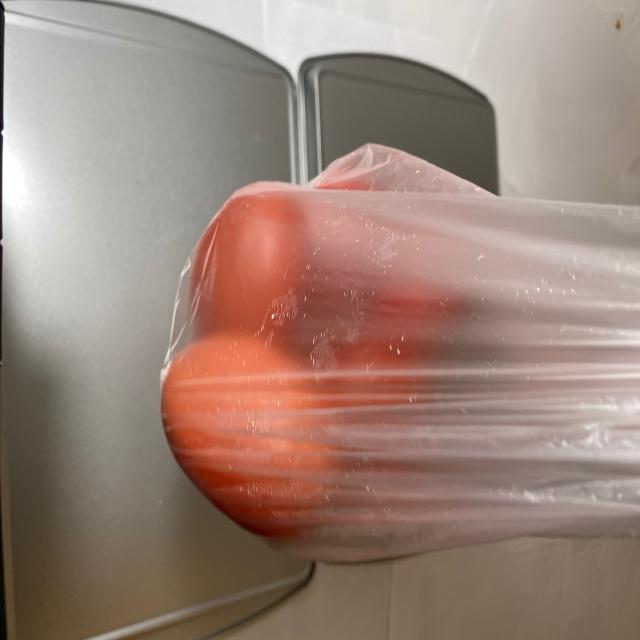tomato: (162, 145, 504, 541)
